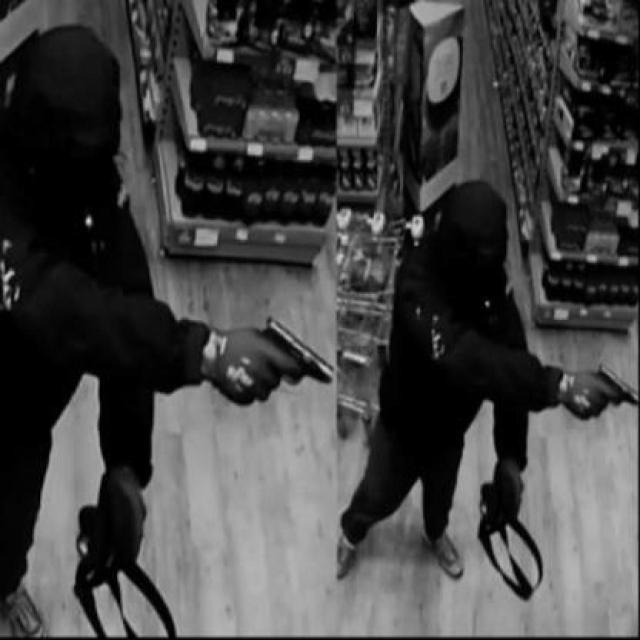weapon: (260, 316, 334, 386), (594, 360, 638, 409)
